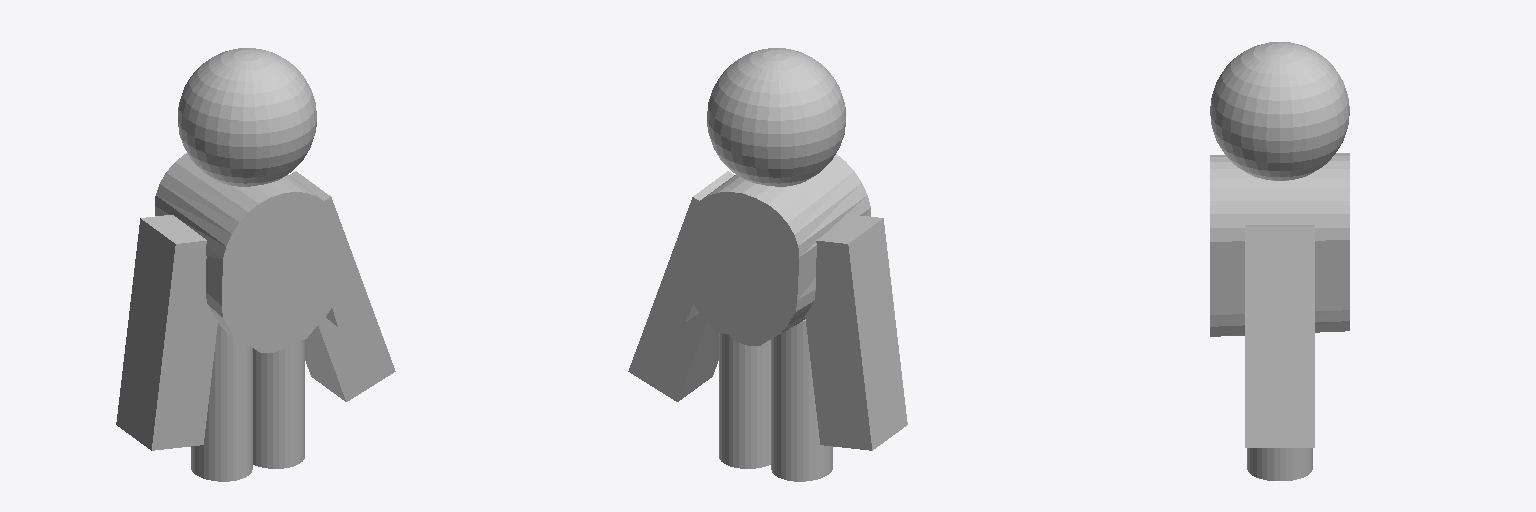
The model's file is Figurine54.obj.
The picture shows the model from 3 angles: view 1: azimuth 30°, elevation 25°; view 2: azimuth 150°, elevation 25°; view 3: azimuth 270°, elevation 25°; orthographic projection.
Parts seen in each view (by area): view 1: Cylinder; view 2: Cylinder; view 3: Cylinder.
Boxes of the visible parts, <box> form: Cylinder: <box>116,48,395,481</box>; Cylinder: <box>628,48,907,481</box>; Cylinder: <box>1210,42,1349,480</box>.
Bounding box in the file's own units: 4.03 × 6.42 × 2.